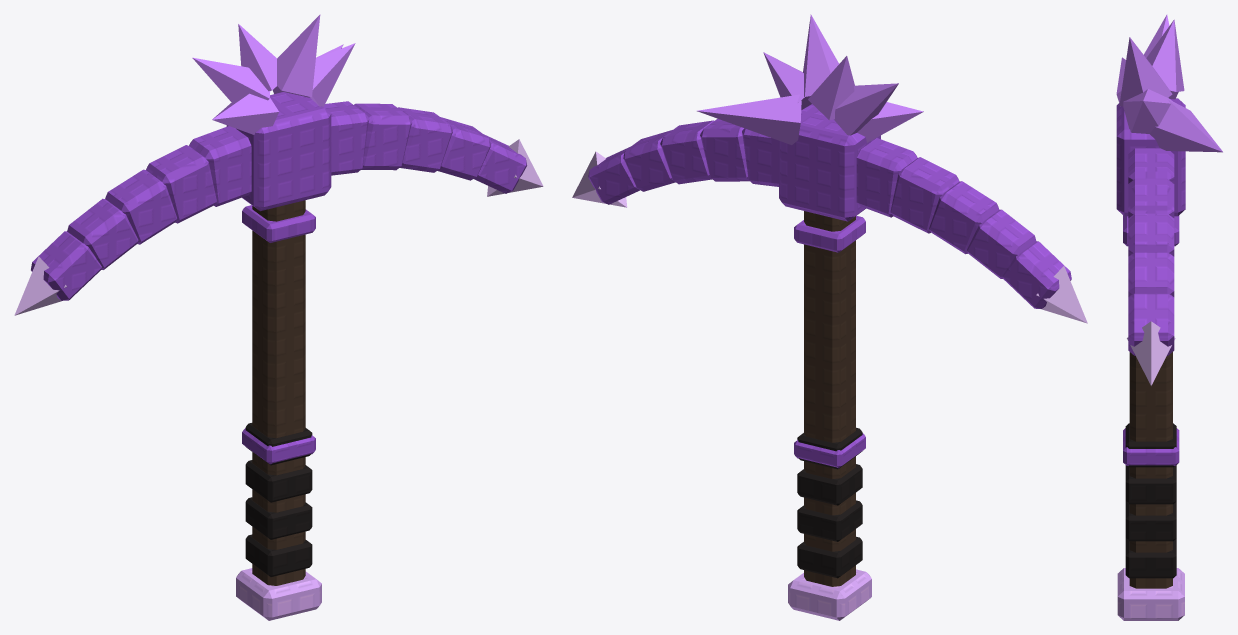
The model's file is outil_19_pioche_en_amethyste.glb.
The picture shows the model from 3 angles, left to right: view 1: azimuth 30°, elevation 25°; view 2: azimuth 150°, elevation 25°; view 3: azimuth 270°, elevation 25°; orthographic projection. The views are drawn at different scales.
Visible parts, largest first — view 1: outil_19_pioche_en_amethyste; view 2: outil_19_pioche_en_amethyste; view 3: outil_19_pioche_en_amethyste.
Part boxes in pixels (bbox=[...]): outil_19_pioche_en_amethyste: bbox=[14, 14, 543, 620]; outil_19_pioche_en_amethyste: bbox=[572, 14, 1087, 620]; outil_19_pioche_en_amethyste: bbox=[1116, 14, 1222, 620].
Size of the model in its own units: 4.76 by 5.08 by 0.8389.
1 material, 1 textured.
